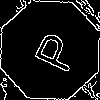P: (25, 25, 81, 76)
